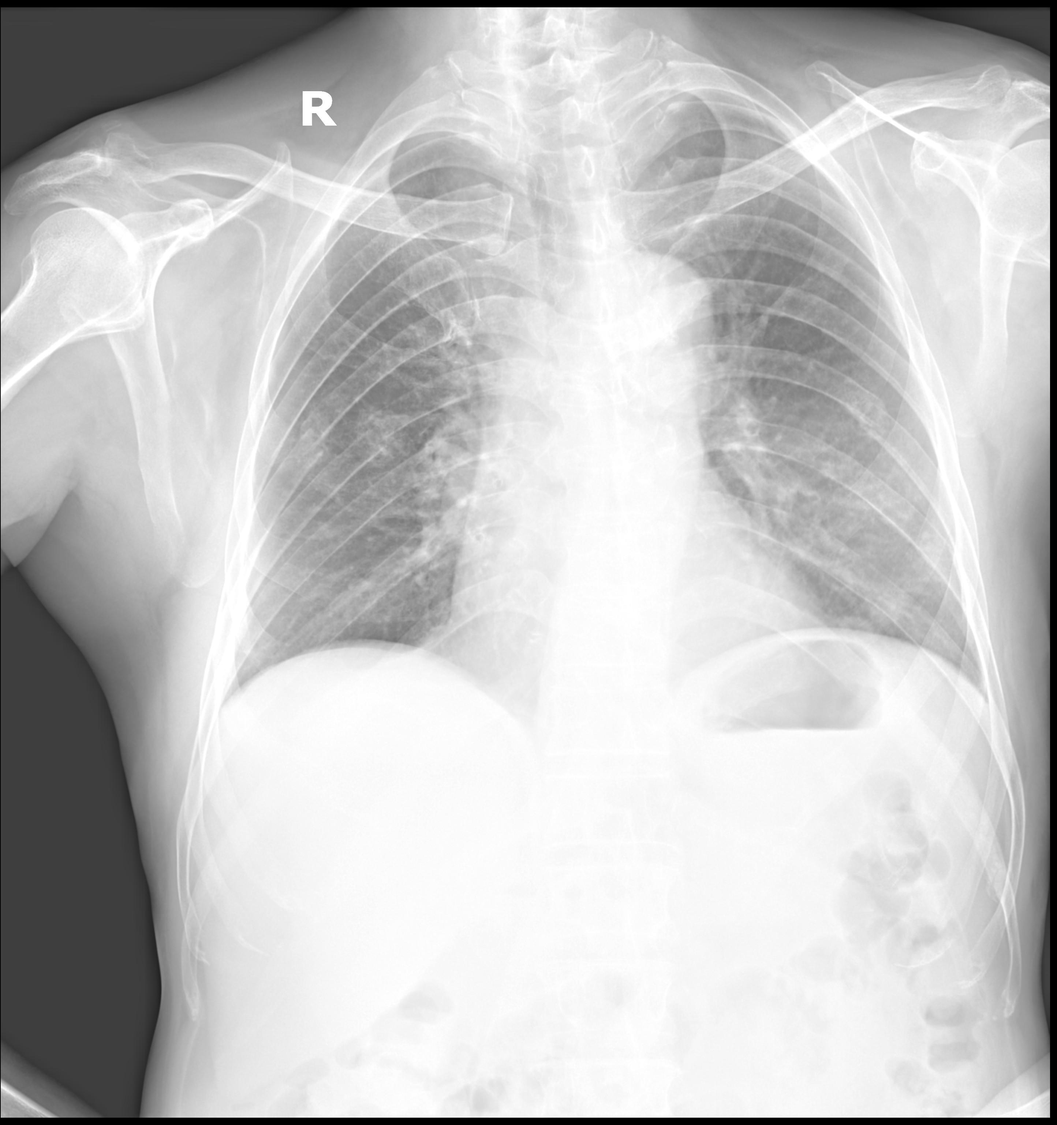Aortic enlargement: (582, 249, 720, 381)
Pleural thickening: (610, 74, 718, 163)
